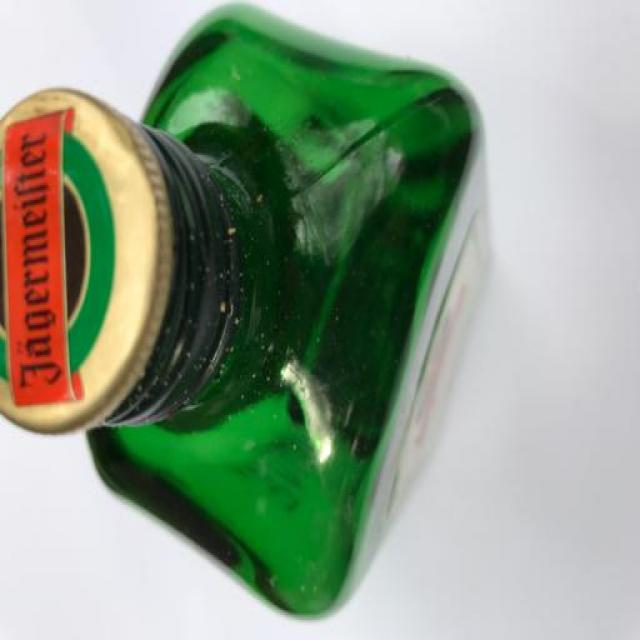glass: (3, 1, 506, 640)
